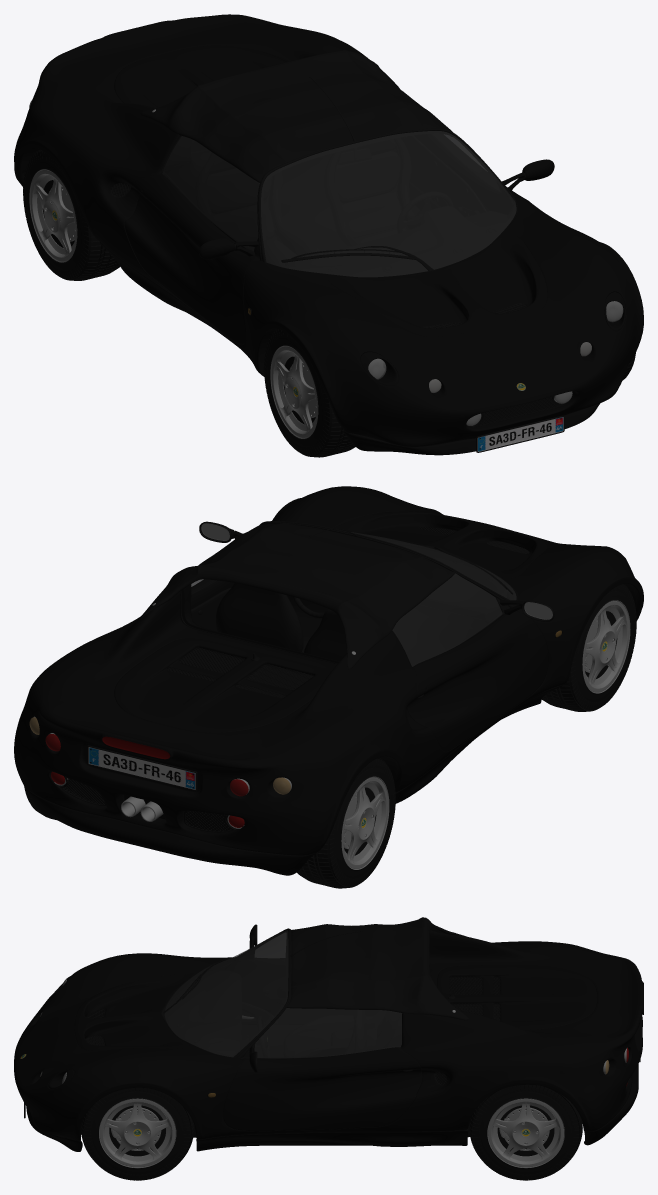
Rendered from LotusElise.glb.
3 renders of one model, top to bottom at view 1: azimuth 30°, elevation 25°; view 2: azimuth 150°, elevation 25°; view 3: azimuth 270°, elevation 25°, orthographic. The views are drawn at different scales.
Parts seen in each view (by area): view 1: LOTUS-def.3:Layer1_CAR.carros_0, LOTUS-def.3:Layer9_CAR.verre_0, LOTUS-def.3:Layer6_CAR.carros_0, LOTUS-def.3:Layer10_CAR.black_0, LOTUS-def.3:Layer5_CAR.black_0, LOTUS-def.3:Layer8_CAR.carros_0, LOTUS-def.3:Layer13_CAR.black_0, LOTUS-def.3:Layer8_CAR.verre_0, LOTUS-def.3:Layer1_CAR.gris_0, LOTUS-def.3:Layer9_CAR.black_0, LOTUS-def.3:Layer18_CAR.black_0, LOTUS-def.3:Layer16_CAR.black_0 (+10 smaller); view 2: LOTUS-def.3:Layer1_CAR.carros_0, LOTUS-def.3:Layer6_CAR.carros_0, LOTUS-def.3:Layer10_CAR.black_0, LOTUS-def.3:Layer8_CAR.carros_0, LOTUS-def.3:Layer6_CAR.black_0, LOTUS-def.3:Layer8_CAR.verre_0, LOTUS-def.3:Layer5_CAR.black_0, LOTUS-def.3:Layer13_CAR.black_0, LOTUS-def.3:Layer18_CAR.black_0, LOTUS-def.3:Layer16_CAR.black_0, LOTUS-def.3:Layer18_CAR.chrome_0, LOTUS-def.3:Layer16_CAR.chrome_0 (+9 smaller); view 3: LOTUS-def.3:Layer1_CAR.carros_0, LOTUS-def.3:Layer6_CAR.carros_0, LOTUS-def.3:Layer7_CAR.carros_0, LOTUS-def.3:Layer10_CAR.black_0, LOTUS-def.3:Layer9_CAR.verre_0, LOTUS-def.3:Layer5_CAR.black_0, LOTUS-def.3:Layer7_CAR.verre_0, LOTUS-def.3:Layer17_CAR.black_0, LOTUS-def.3:Layer2_CAR.black_0, LOTUS-def.3:Layer2_CAR.chrome_0, LOTUS-def.3:Layer17_CAR.chrome_0, LOTUS-def.3:Layer8_CAR.gris_0 (+6 smaller).
Boxes of the visible parts, x1,y1,x2,y2 form: LOTUS-def.3:Layer1_CAR.carros_0: (14, 14, 643, 446); LOTUS-def.3:Layer9_CAR.verre_0: (261, 131, 516, 277); LOTUS-def.3:Layer6_CAR.carros_0: (100, 45, 628, 455); LOTUS-def.3:Layer10_CAR.black_0: (140, 49, 452, 182); LOTUS-def.3:Layer5_CAR.black_0: (195, 153, 508, 274); LOTUS-def.3:Layer8_CAR.carros_0: (124, 173, 259, 344); LOTUS-def.3:Layer13_CAR.black_0: (324, 138, 415, 246); LOTUS-def.3:Layer8_CAR.verre_0: (162, 136, 259, 251); LOTUS-def.3:Layer1_CAR.gris_0: (164, 153, 513, 250); LOTUS-def.3:Layer9_CAR.black_0: (257, 128, 516, 276); LOTUS-def.3:Layer18_CAR.black_0: (23, 150, 120, 280); LOTUS-def.3:Layer16_CAR.black_0: (264, 329, 355, 457); LOTUS-def.3:Layer1_CAR.carros_0: (14, 486, 643, 875); LOTUS-def.3:Layer6_CAR.carros_0: (114, 511, 620, 803); LOTUS-def.3:Layer10_CAR.black_0: (140, 523, 454, 669); LOTUS-def.3:Layer8_CAR.carros_0: (407, 599, 554, 751); LOTUS-def.3:Layer6_CAR.black_0: (60, 526, 636, 832); LOTUS-def.3:Layer8_CAR.verre_0: (392, 573, 502, 666); LOTUS-def.3:Layer5_CAR.black_0: (304, 543, 509, 661); LOTUS-def.3:Layer13_CAR.black_0: (216, 583, 310, 652); LOTUS-def.3:Layer18_CAR.black_0: (297, 757, 395, 888); LOTUS-def.3:Layer16_CAR.black_0: (541, 584, 636, 711); LOTUS-def.3:Layer18_CAR.chrome_0: (341, 776, 389, 869); LOTUS-def.3:Layer16_CAR.chrome_0: (582, 600, 630, 693); LOTUS-def.3:Layer1_CAR.carros_0: (14, 930, 643, 1145); LOTUS-def.3:Layer6_CAR.carros_0: (26, 965, 596, 1151); LOTUS-def.3:Layer7_CAR.carros_0: (223, 1046, 422, 1131); LOTUS-def.3:Layer10_CAR.black_0: (287, 917, 469, 1020); LOTUS-def.3:Layer9_CAR.verre_0: (164, 930, 288, 1057); LOTUS-def.3:Layer5_CAR.black_0: (167, 969, 399, 1057); LOTUS-def.3:Layer7_CAR.verre_0: (254, 1008, 402, 1058); LOTUS-def.3:Layer17_CAR.black_0: (469, 1084, 582, 1180); LOTUS-def.3:Layer2_CAR.black_0: (81, 1087, 194, 1180); LOTUS-def.3:Layer2_CAR.chrome_0: (99, 1098, 176, 1168); LOTUS-def.3:Layer17_CAR.chrome_0: (487, 1098, 564, 1168); LOTUS-def.3:Layer8_CAR.gris_0: (226, 960, 401, 1024).
Bounding box in the file's own units: 1.95 × 1.26 × 3.73.
Materials: 18 (3 with a texture image).
